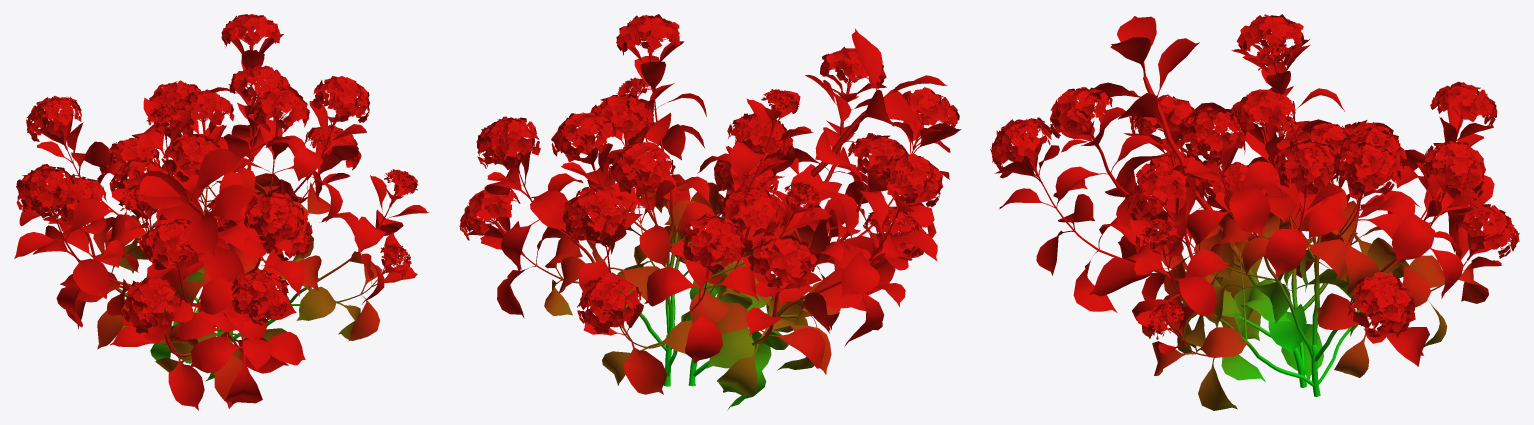
The model's file is Var3_LOD2.fbx.
3 renders of one model, left to right at view 1: azimuth 30°, elevation 25°; view 2: azimuth 150°, elevation 25°; view 3: azimuth 270°, elevation 25°, orthographic. The views are drawn at different scales.
Parts seen in each view (by area): view 1: _be5o_Var3_LOD2; view 2: _be5o_Var3_LOD2; view 3: _be5o_Var3_LOD2.
Part boxes in pixels (bbox=[...]): _be5o_Var3_LOD2: bbox=[14, 14, 429, 410]; _be5o_Var3_LOD2: bbox=[459, 14, 961, 410]; _be5o_Var3_LOD2: bbox=[990, 14, 1519, 410].
Bounding box in the file's own units: 182 × 135 × 194.
